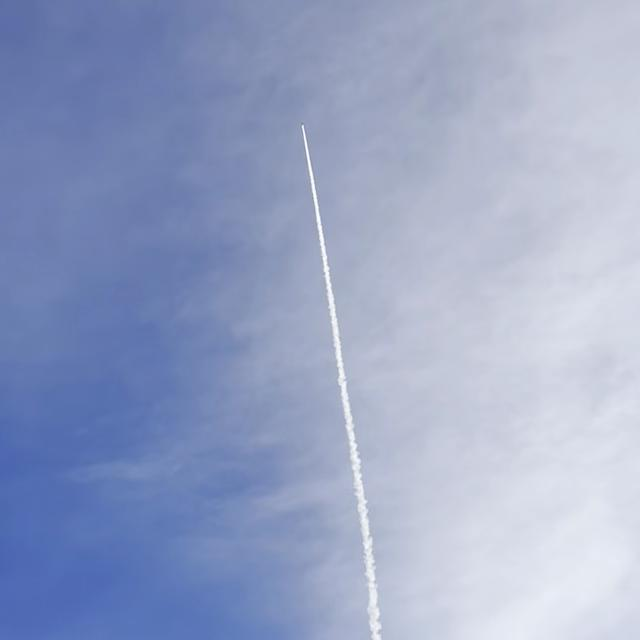smoke_trail_no_rocket: (300, 124, 381, 640)
